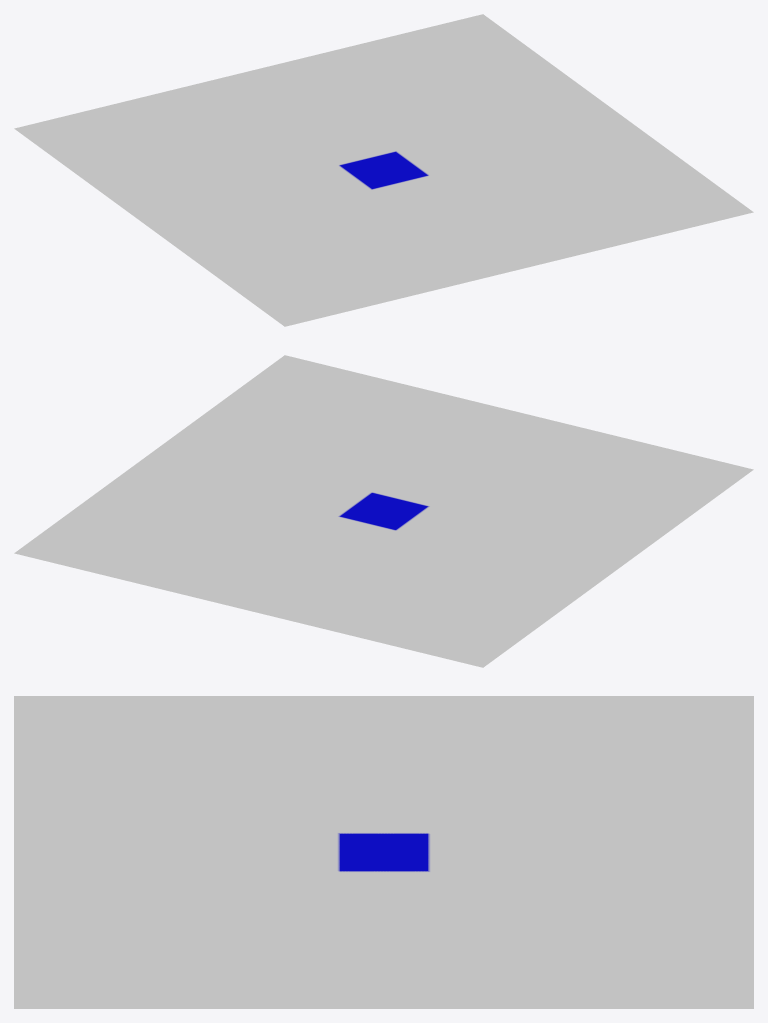
Rendered from WaterPlane.fbx.
The picture shows the model from 3 angles, top to bottom: view 1: azimuth 30°, elevation 25°; view 2: azimuth 150°, elevation 25°; view 3: azimuth 270°, elevation 25°; orthographic projection. The views are drawn at different scales.
Parts seen in each view (by area): view 1: Plane; view 2: Plane; view 3: Plane.
Part boxes in pixels (<box>): Plane: <box>14,14,753,326</box>; Plane: <box>14,355,753,667</box>; Plane: <box>14,696,753,1008</box>.
Size of the model in its own units: 1579 by 6.9e-05 by 1579.
